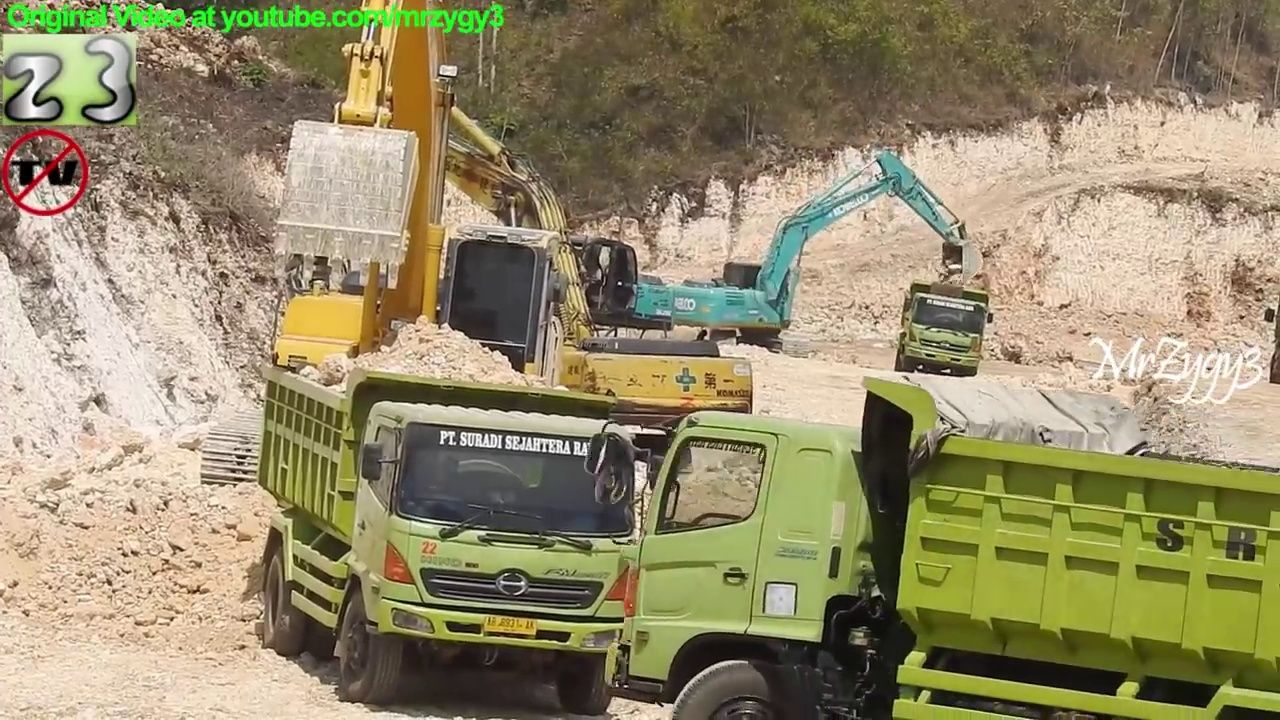excavator: (196, 2, 617, 510), (307, 65, 762, 481), (372, 127, 681, 389), (669, 143, 989, 361)
truck: (619, 372, 1280, 717), (253, 359, 682, 720), (891, 281, 992, 381)
